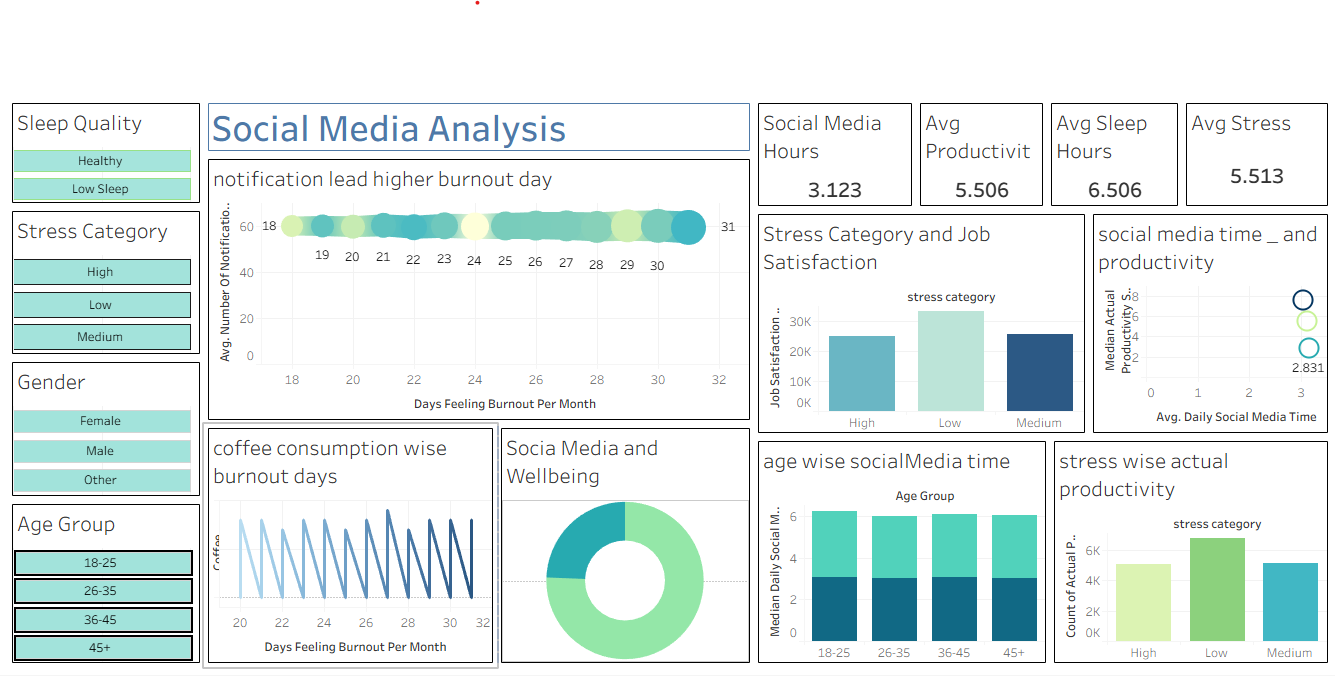

Layout of this report page (visuals, bound fields, positions):
{"tool":"tableau","page":{"name":"Dashboard 1","canvas":[1000,1000],"units":"permille","ordinal":0},"visuals":[{"type":"worksheet","title":"Sleep Quality","mark":"Bar","rows":["Calculation_0657523455700994"],"cols":["Calculation_0692709508284433"],"box":[6,13.7,146.6,184.9]},{"type":"text","box":[152.6,13.7,410.3,95.9]},{"type":"worksheet","title":"Avg Social Media Hours","mark":"Automatic","box":[562.8,13.7,120.6,190.1]},{"type":"worksheet","title":"KPI Avg Productivity","mark":"Automatic","box":[683.4,13.7,97.8,190.1]},{"type":"worksheet","title":"KPI Avg Sleep Hours","mark":"Automatic","box":[781.2,13.7,100.7,190.1]},{"type":"worksheet","title":"KPI Avg Stress","mark":"Automatic","box":[881.9,13.7,112.1,190.1]},{"type":"worksheet","title":"notification lead higher burnout day","mark":"Line","rows":["number_of_notifications"],"cols":["days_feeling_burnout_per_month"],"box":[152.6,109.6,410.3,460.6]},{"type":"worksheet","title":"Stress Category","mark":"Automatic","rows":["Calculation_0692709493907457"],"cols":["Calculation_0692709508710419"],"box":[6,198.6,146.6,258.6]},{"type":"worksheet","title":"stress category and jpb satisfaction","mark":"Automatic","rows":["job_satisfaction_score"],"cols":["Calculation_0692709493907457"],"box":[562.8,203.8,249.9,388.7]},{"type":"worksheet","title":"social media time _ and productivity","mark":"Automatic","rows":["actual_productivity_score"],"cols":["daily_social_media_time"],"box":[812.7,203.8,181.3,388.7]},{"type":"worksheet","title":"Gender","mark":"Automatic","rows":["gender"],"cols":["Calculation_0692709509099541"],"box":[6,457.2,146.6,243.2]},{"type":"worksheet","title":"coffee consumption wise burnout days","mark":"Line","rows":["coffee_consumption_per_day"],"cols":["days_feeling_burnout_per_month"],"box":[152.6,570.2,218.7,416.1]},{"type":"worksheet","title":"daily social media and wellbeing","mark":"Pie","rows":["Calculation_0692709498630153","Calculation_0692709498736653"],"box":[371.2,570.2,191.6,416.1]},{"type":"worksheet","title":"age wise socialMedia time","mark":"Automatic","rows":["daily_social_media_time"],"cols":["Calculation_0657523459051523"],"box":[562.8,592.5,220.7,393.8]},{"type":"worksheet","title":"stress wise actual productivity","mark":"Automatic","rows":["actual_productivity_score"],"cols":["Calculation_0692709493907457"],"box":[783.6,592.5,210.5,393.8]},{"type":"worksheet","title":"Age Group","mark":"Automatic","rows":["Calculation_0657523459051523"],"cols":["Calculation_0692709509550103"],"box":[6,700.3,146.6,286]}]}

Visuals, with their boxes on the dashboard's canvas, which has no fixed pixel size, in thousandths of its width and height (x1, y1, x2, y2). These are canvas units, not pixel positions in the 1335x676 screenshot, which may show the page scaled, cropped or inside an application window:
"Sleep Quality" worksheet (Bar marks): 6 14 153 199
text: 153 14 563 110
"Avg Social Media Hours" worksheet: 563 14 683 204
"KPI Avg Productivity" worksheet: 683 14 781 204
"KPI Avg Sleep Hours" worksheet: 781 14 882 204
"KPI Avg Stress" worksheet: 882 14 994 204
"notification lead higher burnout day" worksheet (Line marks): 153 110 563 570
"Stress Category" worksheet: 6 199 153 457
"stress category and jpb satisfaction" worksheet: 563 204 813 592
"social media time _ and productivity" worksheet: 813 204 994 592
"Gender" worksheet: 6 457 153 700
"coffee consumption wise burnout days" worksheet (Line marks): 153 570 371 986
"daily social media and wellbeing" worksheet (Pie marks): 371 570 563 986
"age wise socialMedia time" worksheet: 563 592 784 986
"stress wise actual productivity" worksheet: 784 592 994 986
"Age Group" worksheet: 6 700 153 986
